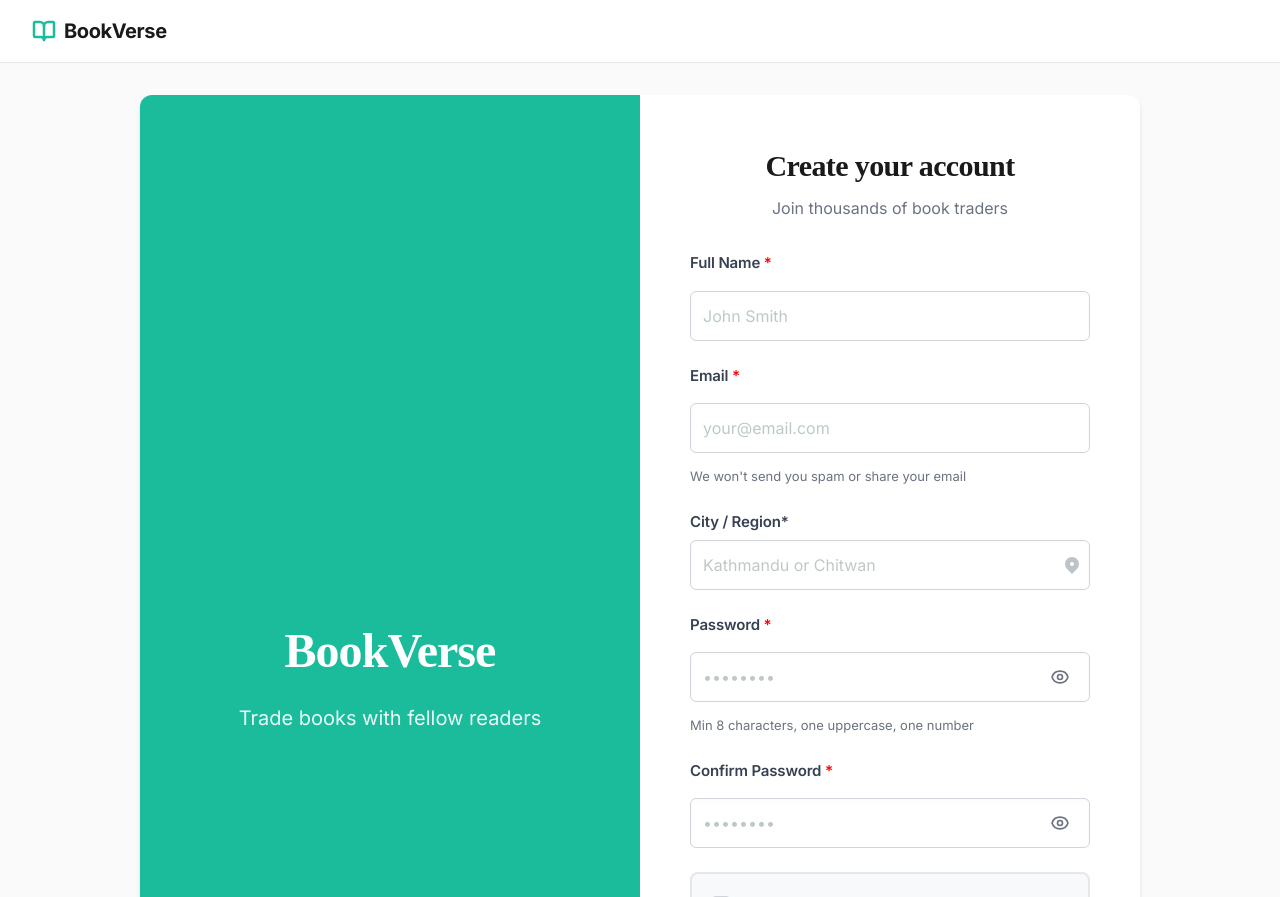
Test case: SignUp Component › Validation › displays validation error for short password
The image size is (1280, 897).
Type "short" into the password field labelled "Password *".
click(890, 677); type("short")  # box left=690, top=652, right=1090, bottom=702
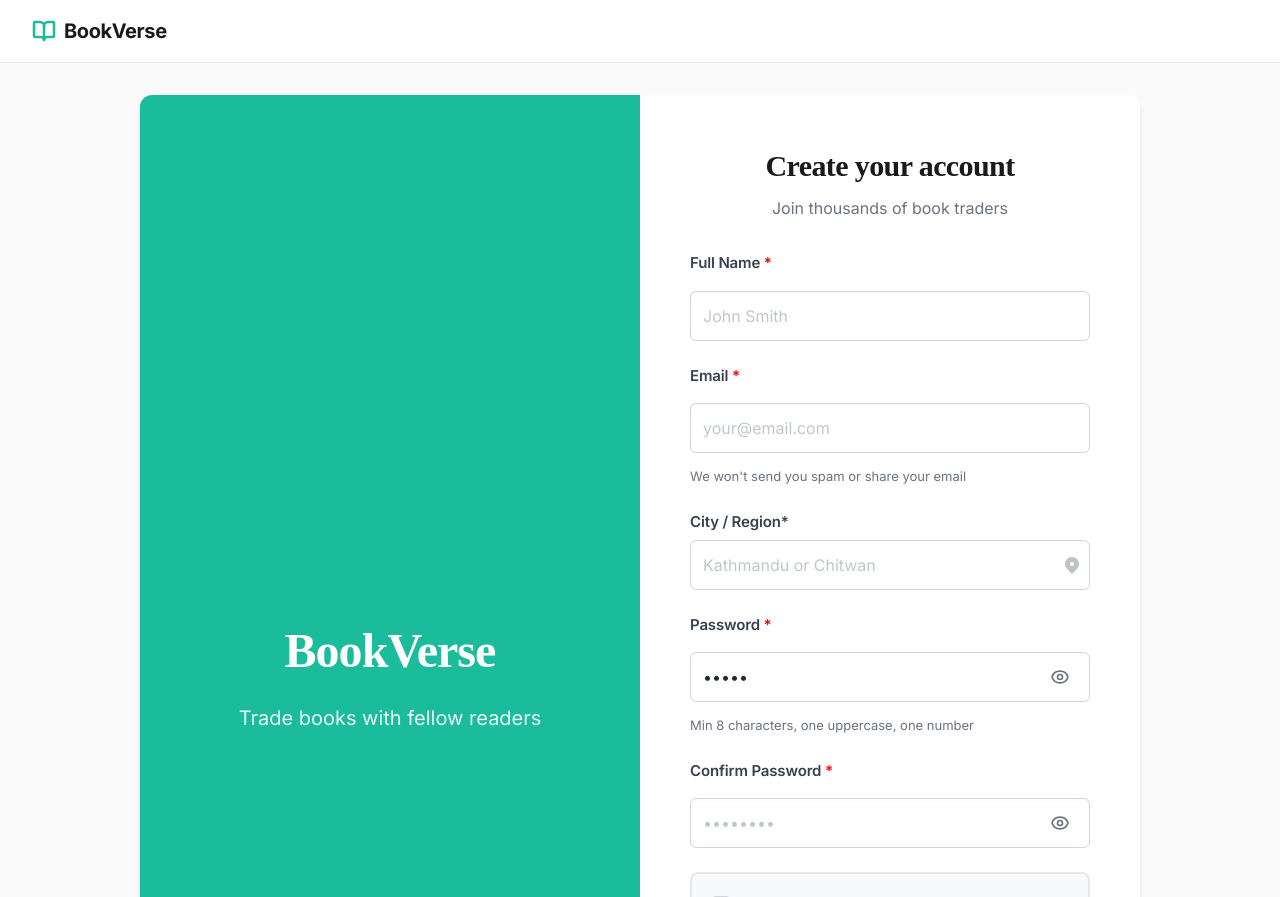
Leave the password field labelled "Password *", box left=690, top=652, right=1090, bottom=702
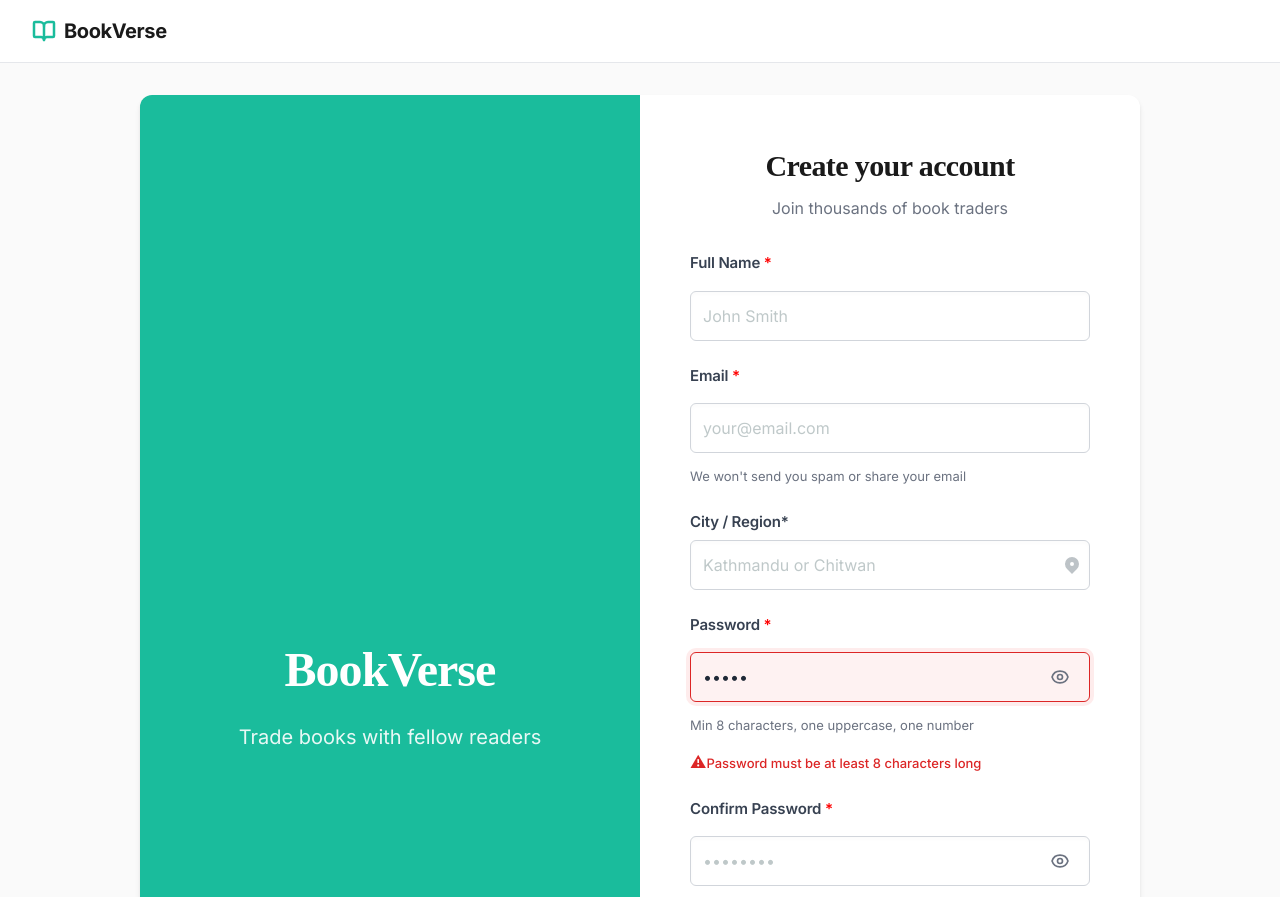
Check: the text "Password must be at least 8 characters long" is shown, box left=706, top=755, right=981, bottom=771
